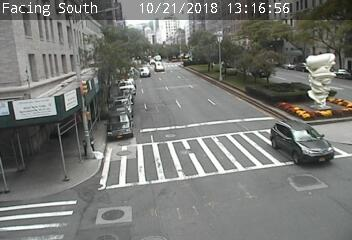car: (270, 126, 325, 164), (155, 62, 164, 72), (140, 67, 148, 76)
